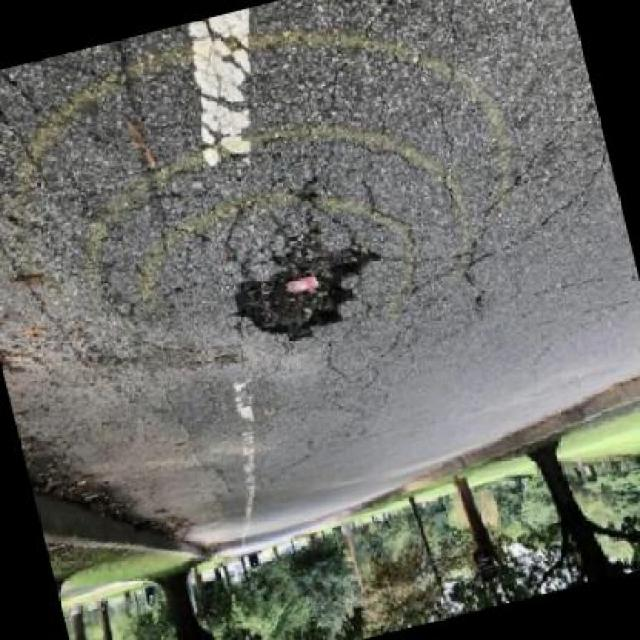pothole1: (218, 230, 396, 359)
